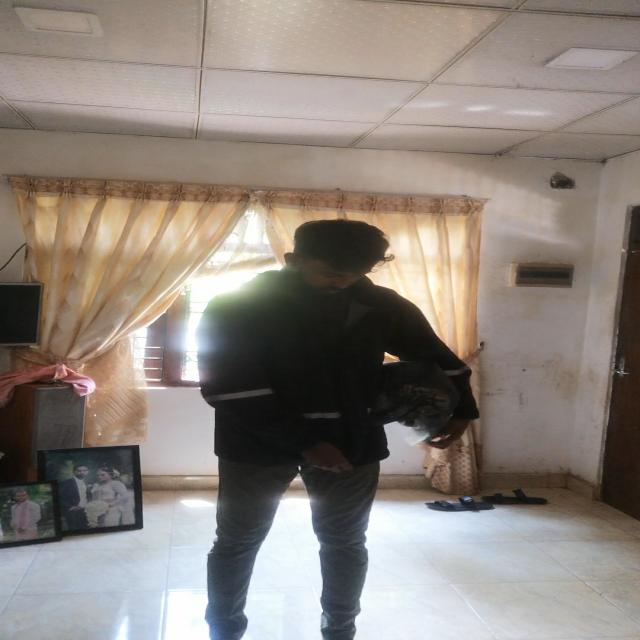Jacket_Wearer: (196, 271, 477, 478)
Person: (191, 218, 482, 640)
